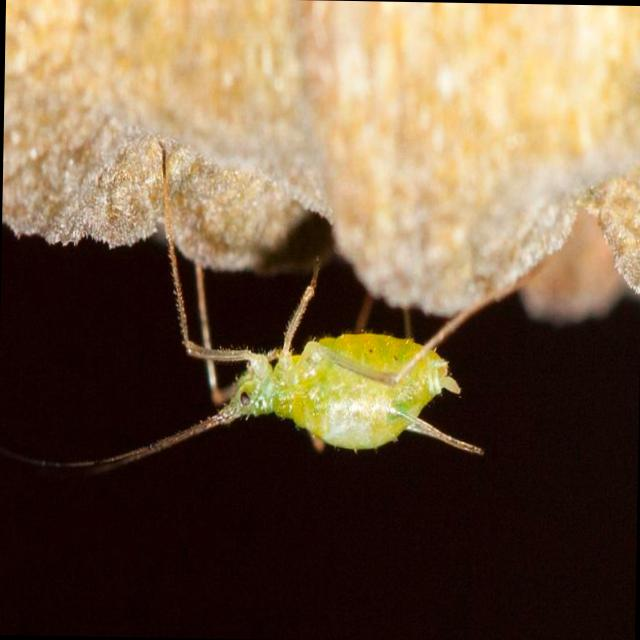Aphids: (58, 191, 531, 506)
